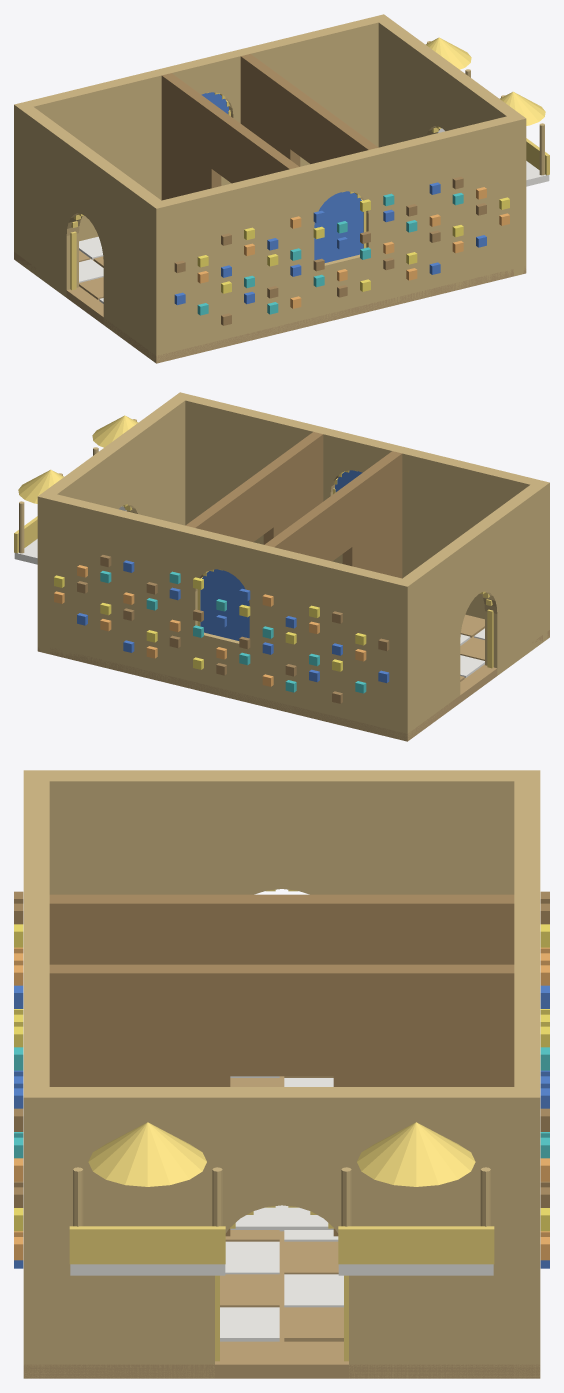
The model's file is room_ranivas.glb.
3 views of the same model, one above another, from view 1: azimuth 30°, elevation 25°; view 2: azimuth 150°, elevation 25°; view 3: azimuth 270°, elevation 25° (orthographic). The views are drawn at different scales.
Visible parts, largest first — view 1: Room_Ranivas; view 2: Room_Ranivas; view 3: Room_Ranivas.
Boxes of the visible parts, left/top/right/bottom form: Room_Ranivas: left=14, top=14, right=549, bottom=363; Room_Ranivas: left=14, top=392, right=549, bottom=741; Room_Ranivas: left=14, top=770, right=549, bottom=1378.
Bounding box in the file's own units: 17 × 6 × 10.38.
